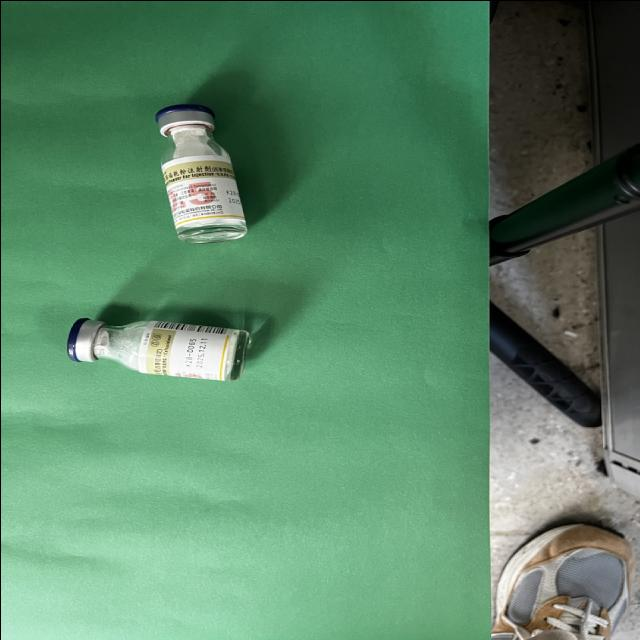Vials: (155, 104, 247, 242), (67, 318, 249, 380)
